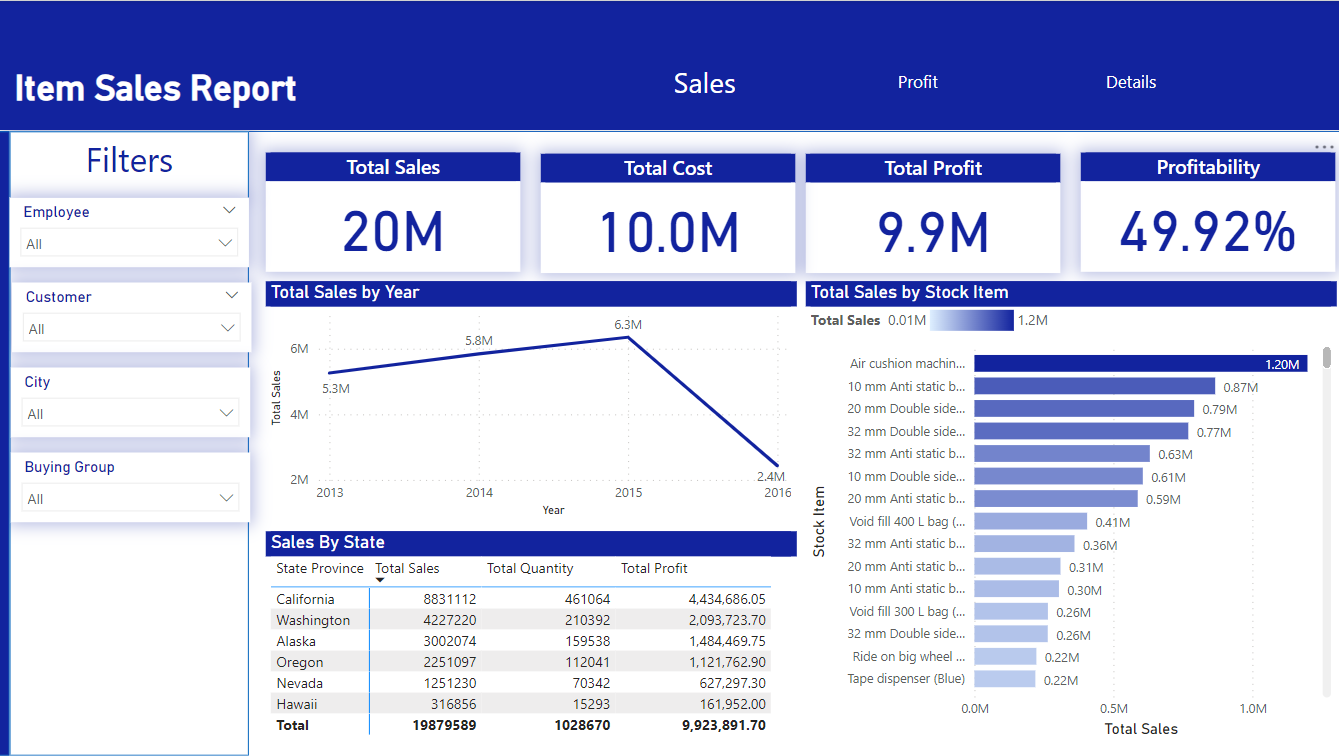

This screenshot's page, from the dashboard's own definition file:
{"tool":"powerbi","page":{"name":"Sales","canvas":[1280,720],"ordinal":0},"visuals":[{"type":"shape","box":[0,0,1279.6,125.4],"z":0},{"type":"shape","box":[0,125.4,12.1,594.6],"z":1000},{"type":"shape","box":[12.1,125.4,227.9,594.6],"z":2000},{"type":"textbox","box":[12.1,59.1,306.3,86.8],"z":3000},{"type":"card","title":"Total Sales","fields":{"Values":["FactSale.Total Sales"]},"box":[255.3,145,242.4,113.4],"z":4000},{"type":"card","title":"Profitability","fields":{"Values":["FactSale.Profitability"]},"box":[1032.4,145.3,242.4,113.4],"z":5000},{"type":"card","title":"Total Profit","fields":{"Values":["Sum(FactSale.Profit)"]},"box":[769.8,146.2,242.4,113.4],"z":6000},{"type":"card","title":"Total Cost","fields":{"Values":["Sum(FactSale.Cost)"]},"box":[517.8,146.2,242.4,113.4],"z":7000},{"type":"textbox","box":[12.1,125.4,227.9,62.7],"z":8000},{"type":"lineChart","fields":{"Category":["DimDate.Date.Variation.Date Hierarchy.Year","DimDate.Date.Variation.Date Hierarchy.Quarter","DimDate.Date.Variation.Date Hierarchy.Month","DimDate.Date.Variation.Date Hierarchy.Day"],"Y":["Sum(FactSale.Total Excluding Tax)"]},"box":[255.3,267.7,505.3,229.1],"z":9000},{"type":"barChart","title":"Total Sales by Stock Item","fields":{"Y":["Sum(FactSale.Total Excluding Tax)"],"Category":["DimStockItem.Stock Item"]},"box":[769.4,267.7,505.3,439],"z":10000},{"type":"pivotTable","title":"Sales By State ","fields":{"Values":["Sum(FactSale.Total Excluding Tax)","Sum(FactSale.Quantity)","Sum(FactSale.Profit)"],"Rows":["DimCity.State Province"]},"box":[255.3,505.3,505.3,201.4],"z":11000},{"type":"slicer","fields":{"Values":["DimEmployee.Employee"]},"box":[12.1,188.1,227.9,66.3],"z":12000},{"type":"slicer","fields":{"Values":["DimCustomer.Customer"]},"box":[14.5,268.9,227.9,66.3],"z":13000},{"type":"slicer","fields":{"Values":["DimCity.City"]},"box":[13.3,349.7,227.9,66.3],"z":14000},{"type":"slicer","fields":{"Values":["DimCustomer.Buying Group"]},"box":[13.3,430.6,227.9,66.3],"z":15000},{"type":"pageNavigator","box":[577.2,52.4,599.8,50],"z":16000}]}

Visuals, with their boxes in screenshot pixels (x1, y1, x2, y2), scaled from the page's 1280x720 canvas onto the 1339x756 screenshot:
shape: box=[0, 0, 1338, 132]
shape: box=[0, 132, 13, 755]
shape: box=[13, 132, 251, 755]
textbox: box=[13, 62, 333, 153]
"Total Sales" card: box=[267, 152, 521, 271]
"Profitability" card: box=[1080, 153, 1334, 272]
"Total Profit" card: box=[805, 154, 1059, 273]
"Total Cost" card: box=[542, 154, 795, 273]
textbox: box=[13, 132, 251, 198]
lineChart - DimDate.Date.Variation.Date Hierarchy.Year x DimDate.Date.Variation.Date Hierarchy.Quarter: box=[267, 281, 796, 522]
"Total Sales by Stock Item" barChart: box=[805, 281, 1333, 742]
"Sales By State " pivotTable: box=[267, 531, 796, 742]
slicer - DimEmployee.Employee: box=[13, 198, 251, 267]
slicer - DimCustomer.Customer: box=[15, 282, 254, 352]
slicer - DimCity.City: box=[14, 367, 252, 437]
slicer - DimCustomer.Buying Group: box=[14, 452, 252, 522]
pageNavigator: box=[604, 55, 1231, 108]
